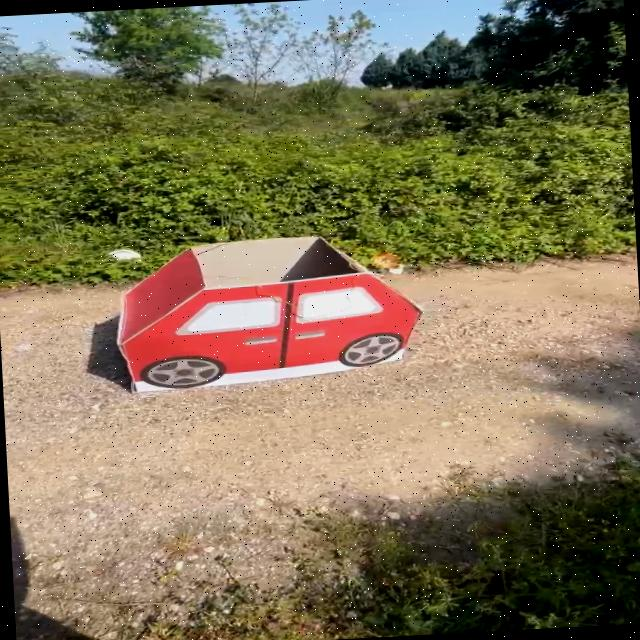red_car: (86, 222, 427, 404)
